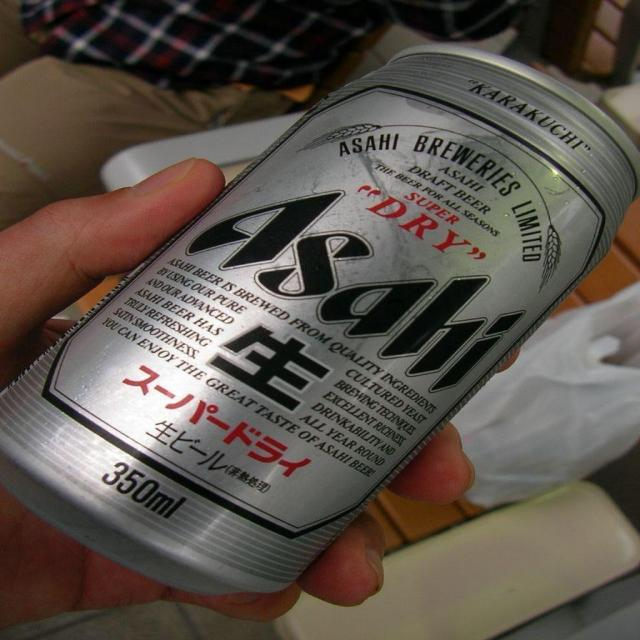tin can: (6, 39, 632, 608)
